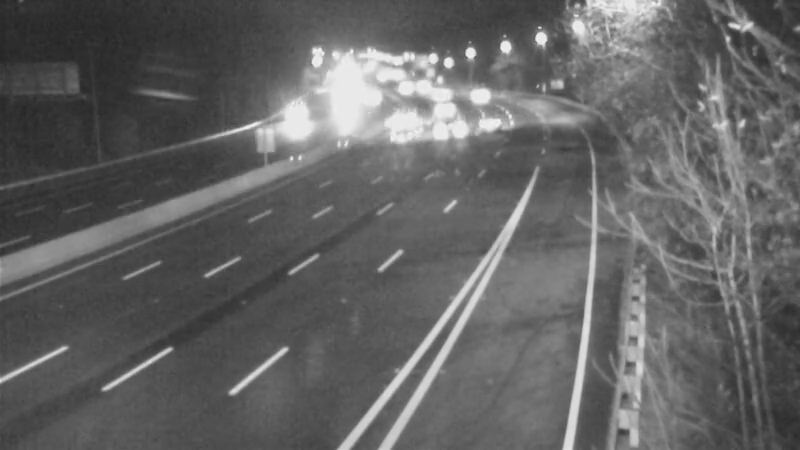vehicle: (1, 182, 78, 262), (397, 59, 447, 109), (380, 63, 430, 113), (451, 74, 501, 124), (422, 73, 472, 123), (417, 88, 467, 138), (378, 93, 428, 143), (467, 94, 517, 144), (424, 102, 474, 152), (268, 89, 318, 139)
